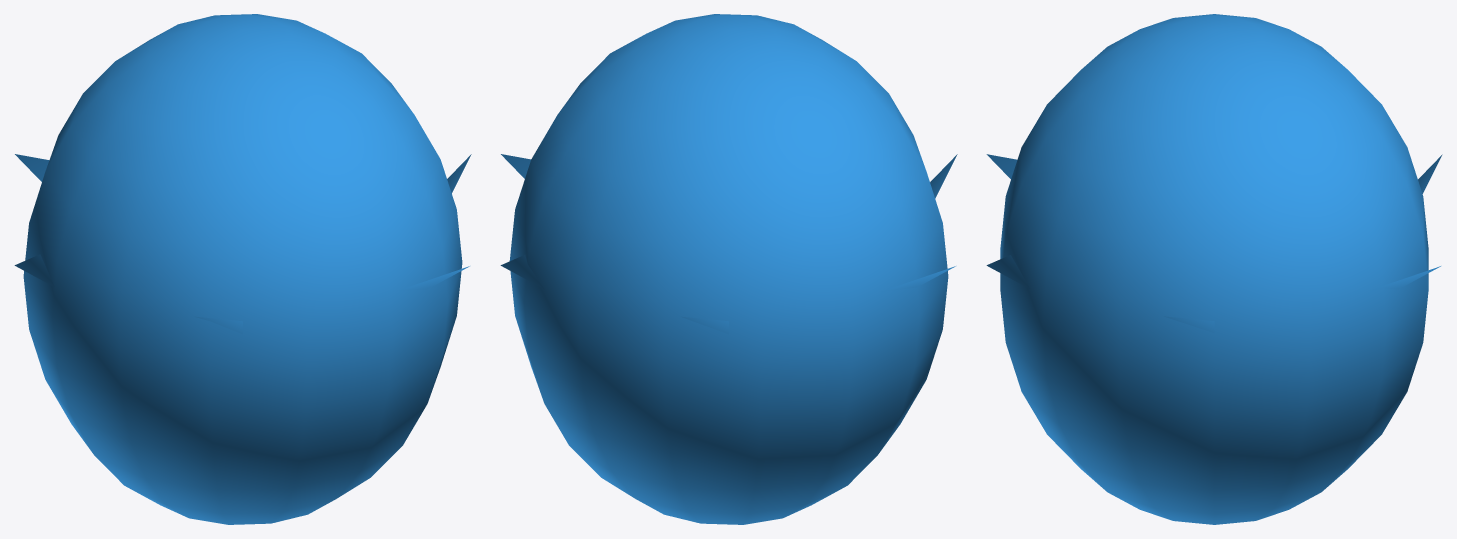
The model's file is Caranguepérola_stage3.obj.
The picture shows the model from 3 angles, left to right: view 1: azimuth 30°, elevation 25°; view 2: azimuth 150°, elevation 25°; view 3: azimuth 270°, elevation 25°; orthographic projection.
Size of the model in its own units: 3.12 by 3.12 by 2.7.
